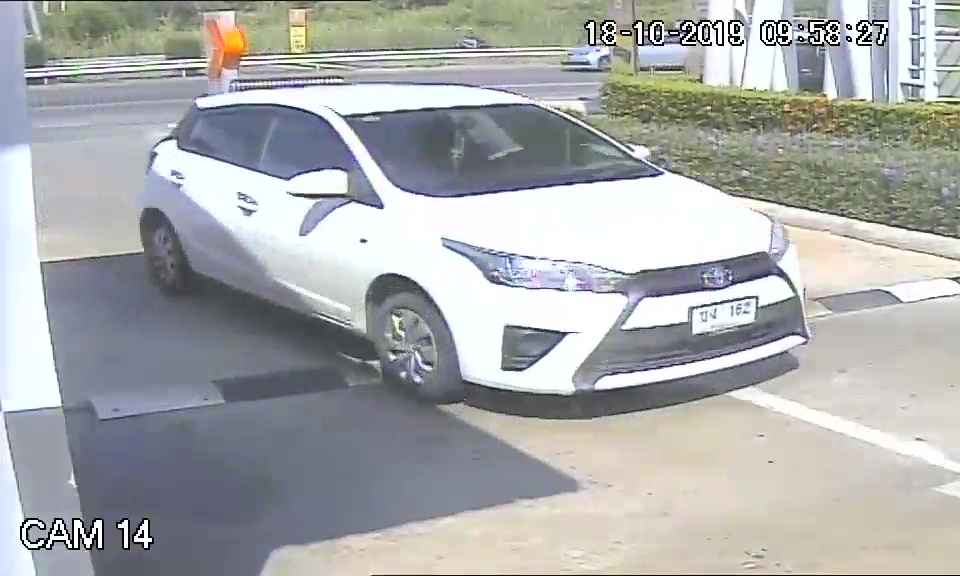sedan: (128, 77, 818, 409)
